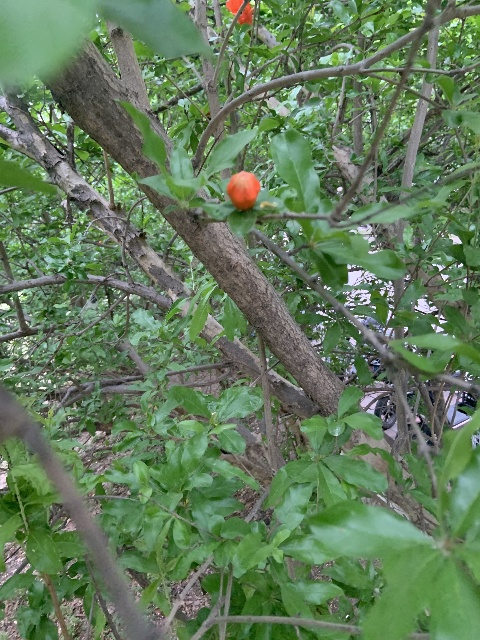bud: (226, 170, 260, 211)
flower: (226, 0, 255, 25)
